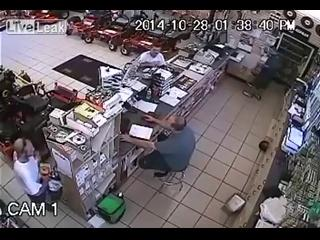Normal: (136, 112, 196, 186)
shoplifting: (6, 138, 51, 200)
